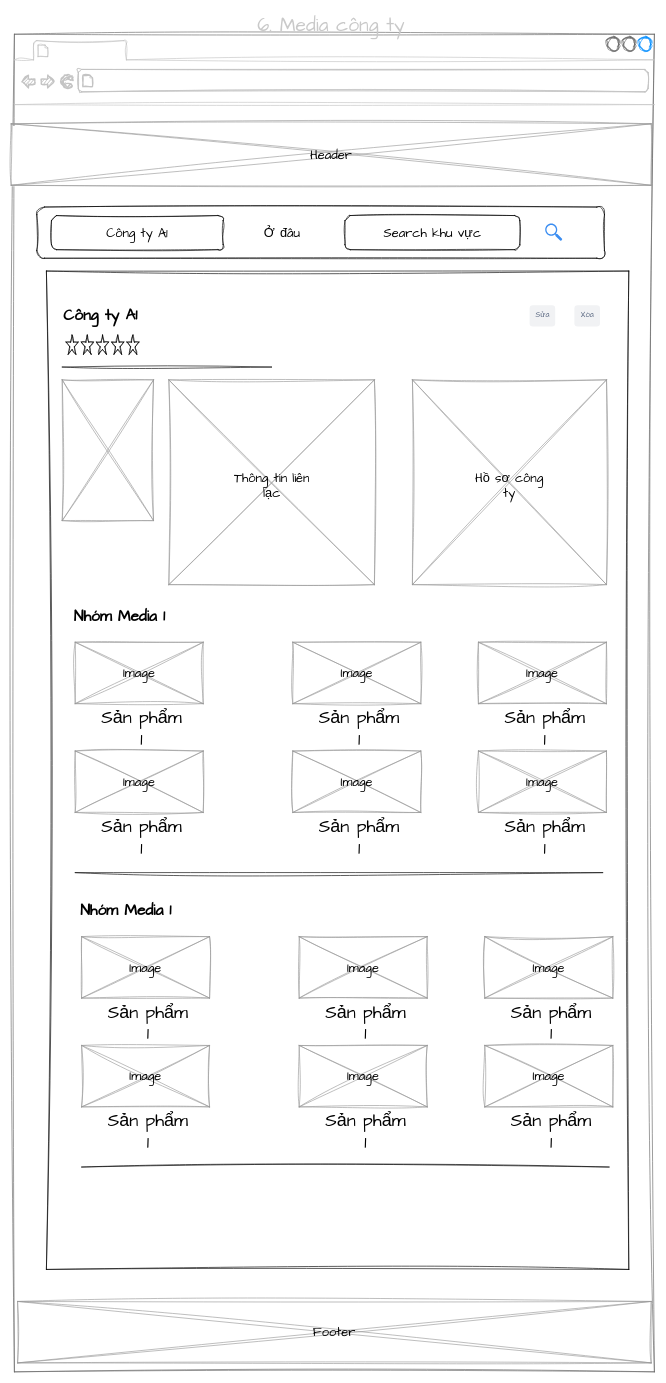
Image size: 666x1383. Some labels were removed from this diagram. Here are the shapes that lost their labels. From the top down, the centre of each, then its label:
pixel 86 48: Vendor dat....
pixel 173 80: https://www.draw.io
pixel 108 450: Ảnh đại diện
